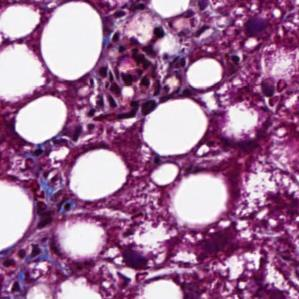inflammation: (90, 63, 162, 123), (0, 243, 57, 286), (29, 198, 79, 226)
